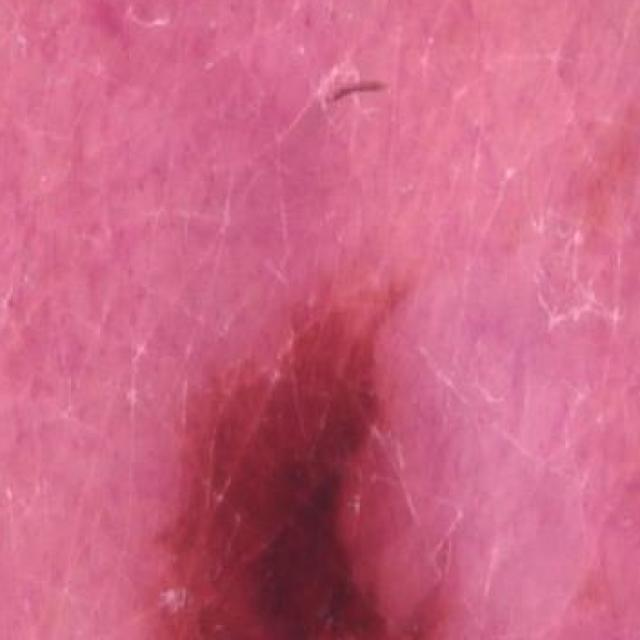NV: (57, 203, 486, 640)
